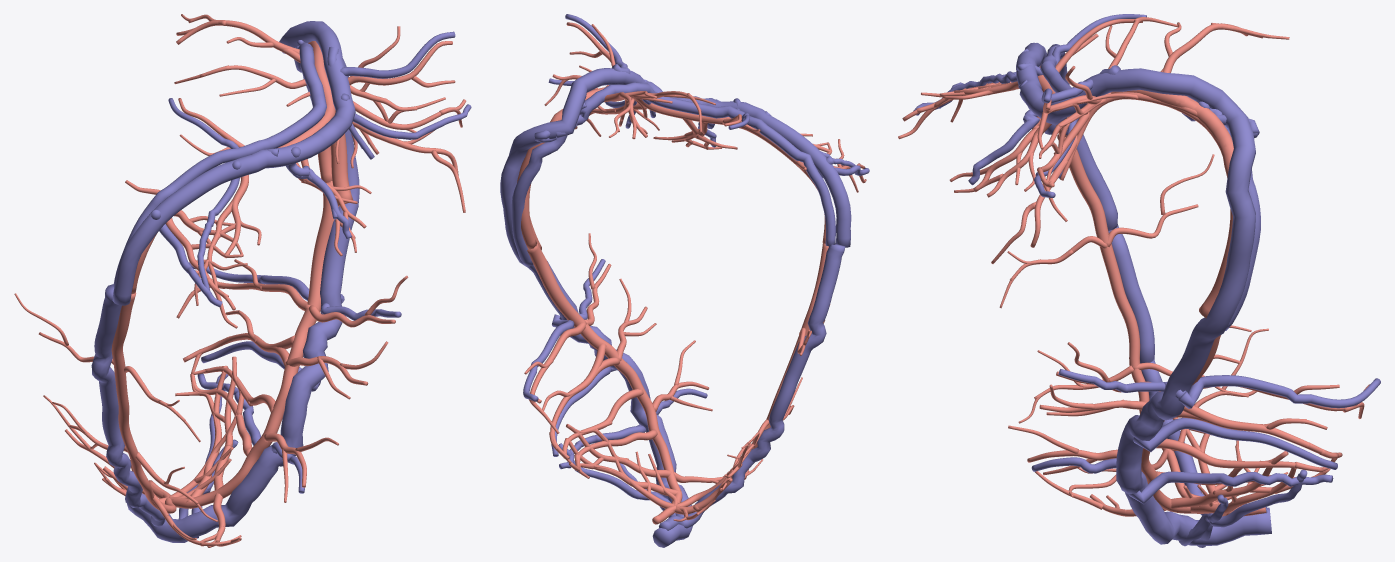
Rendered from vessels_10.glb.
3 renders of one model, left to right at view 1: azimuth 30°, elevation 25°; view 2: azimuth 150°, elevation 25°; view 3: azimuth 270°, elevation 25°, orthographic. The views are drawn at different scales.
Parts seen in each view (by area): view 1: Renderer Node; view 2: Renderer Node; view 3: Renderer Node.
Part boxes in pixels (x1,y1,x2,y2): Renderer Node: [14, 14, 471, 547]; Renderer Node: [500, 14, 869, 547]; Renderer Node: [898, 14, 1380, 547].
Size of the model in its own units: 95.43 by 124 by 95.42.
